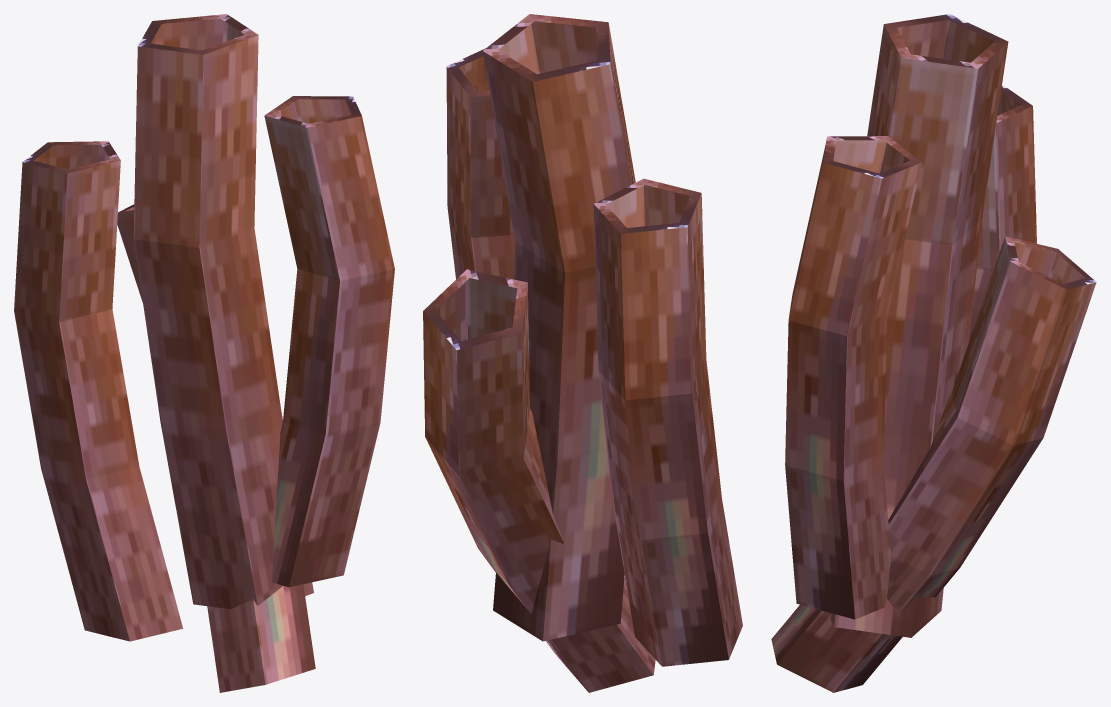
The model's file is Tube Coral.fbx.
3 views of the same model, side by side, from view 1: azimuth 30°, elevation 25°; view 2: azimuth 150°, elevation 25°; view 3: azimuth 270°, elevation 25° (orthographic). The views are drawn at different scales.
Visible parts, largest first — view 1: Cylinder.021; view 2: Cylinder.021; view 3: Cylinder.021.
Boxes of the visible parts, x1=… form: Cylinder.021: x1=14, y1=14, x2=394, y2=692; Cylinder.021: x1=423, y1=14, x2=742, y2=692; Cylinder.021: x1=771, y1=14, x2=1096, y2=692.
Bounding box in the file's own units: 14.41 × 28.96 × 13.2.
1 material, 1 textured.
